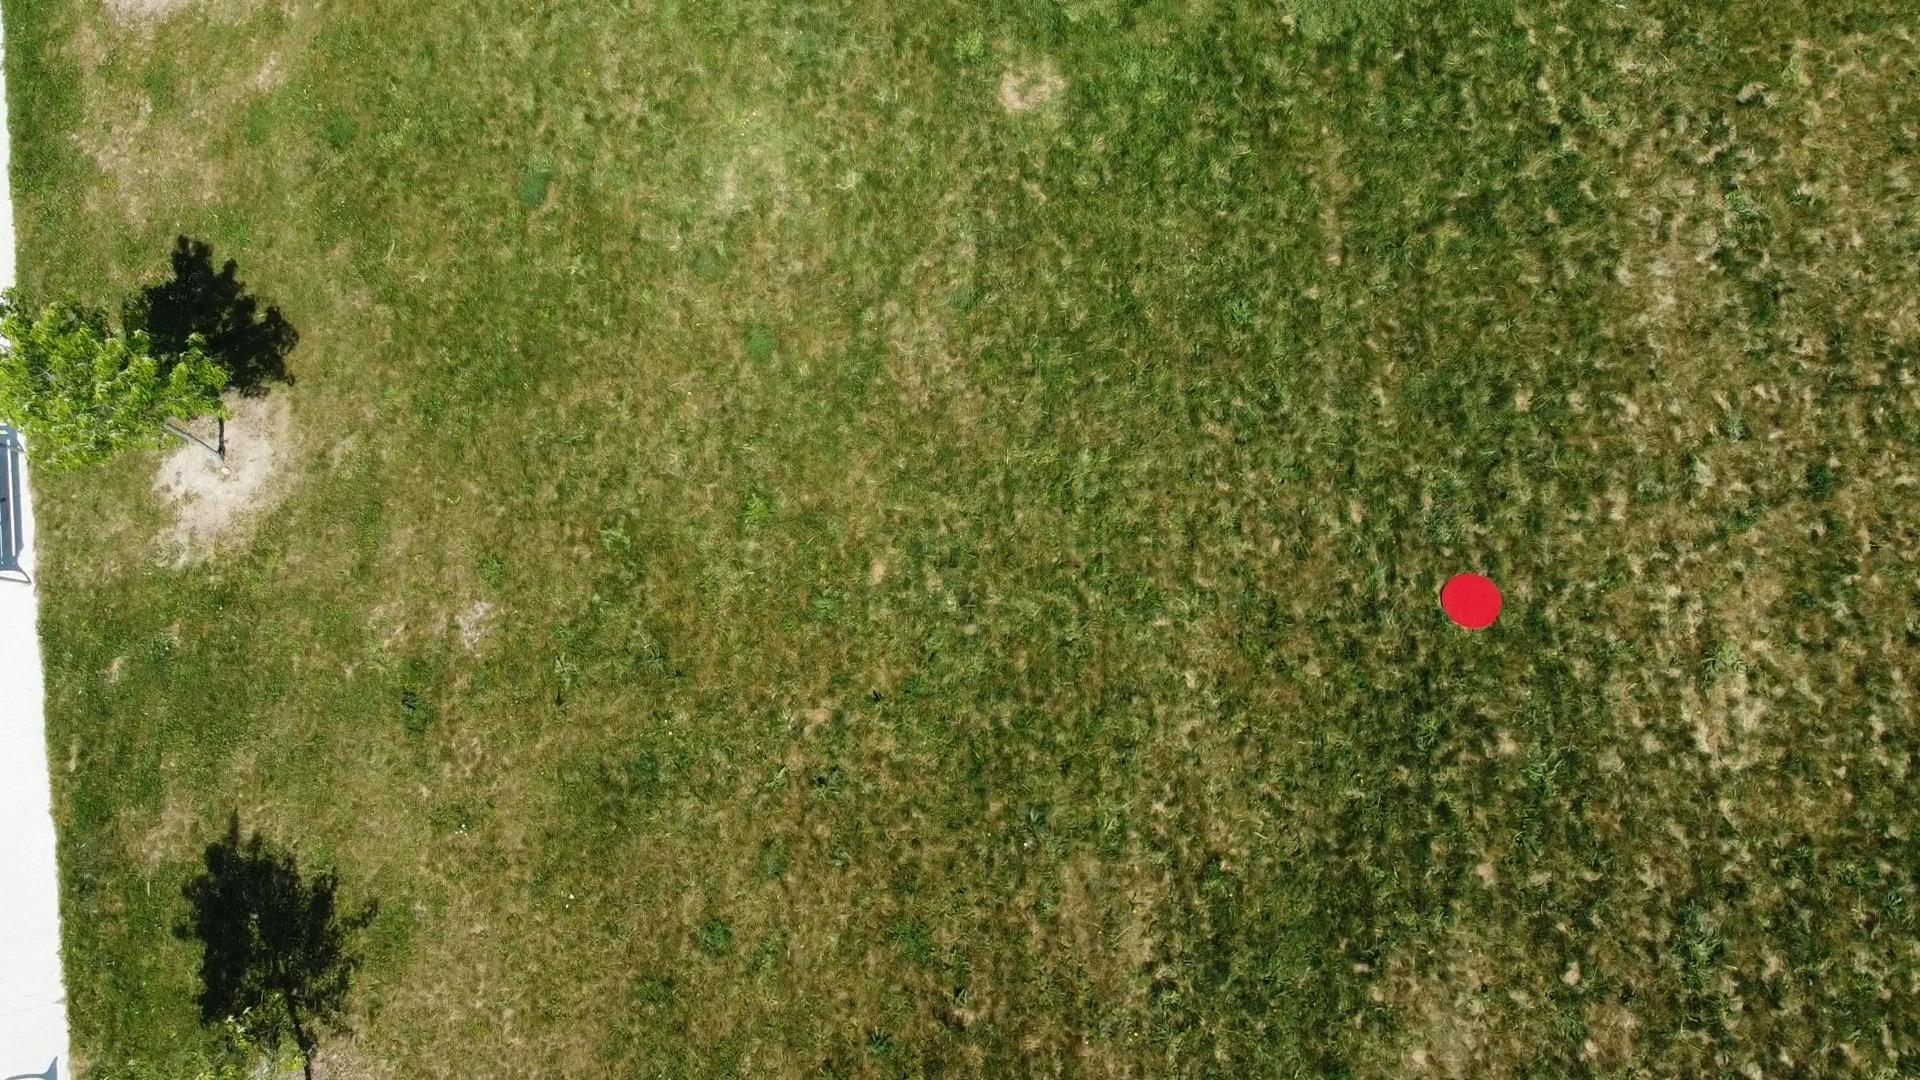Red: (1439, 572, 1505, 632)
